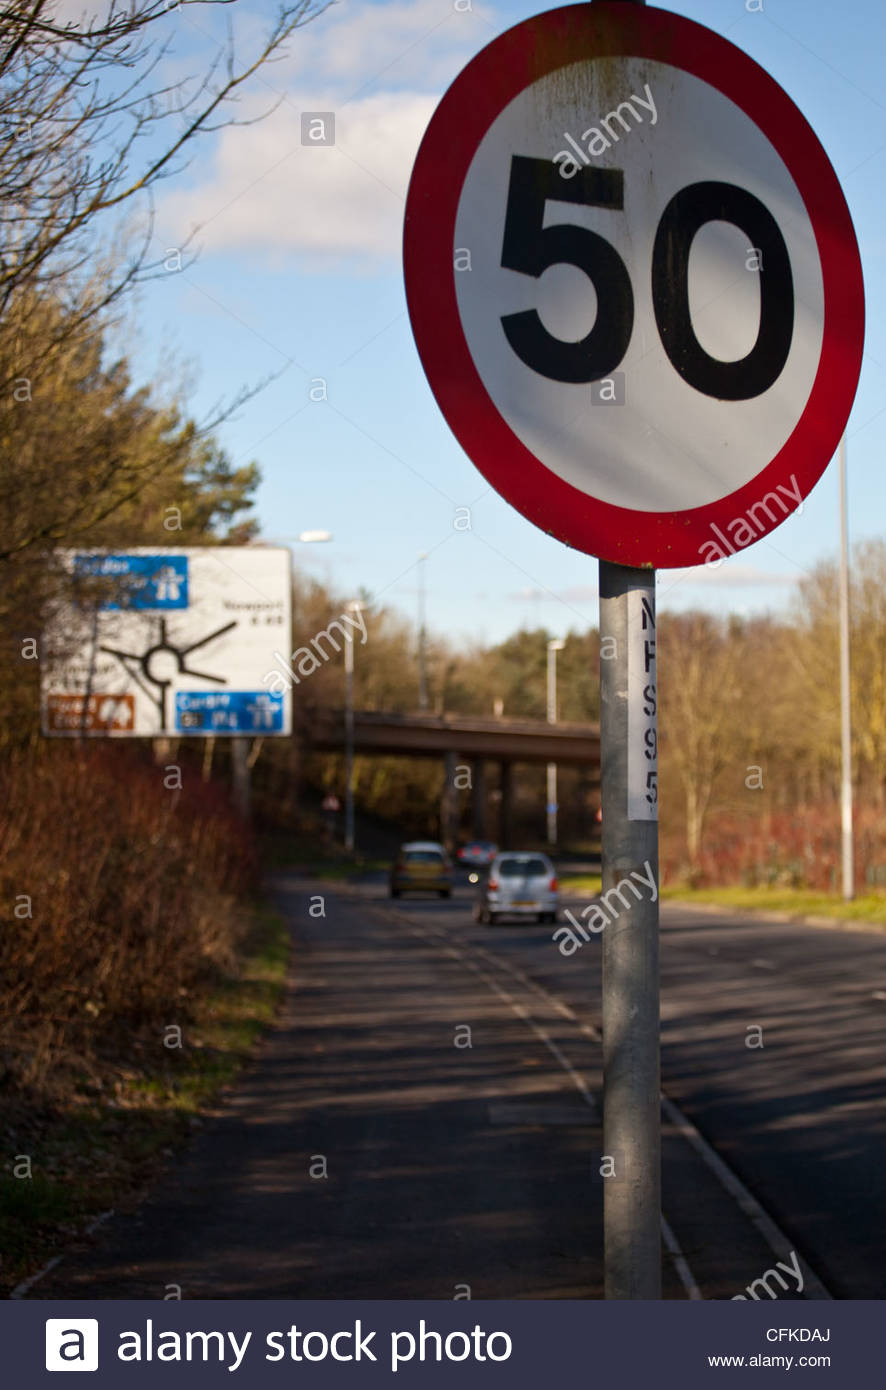Speed_limit_50km: (388, 6, 865, 565)
